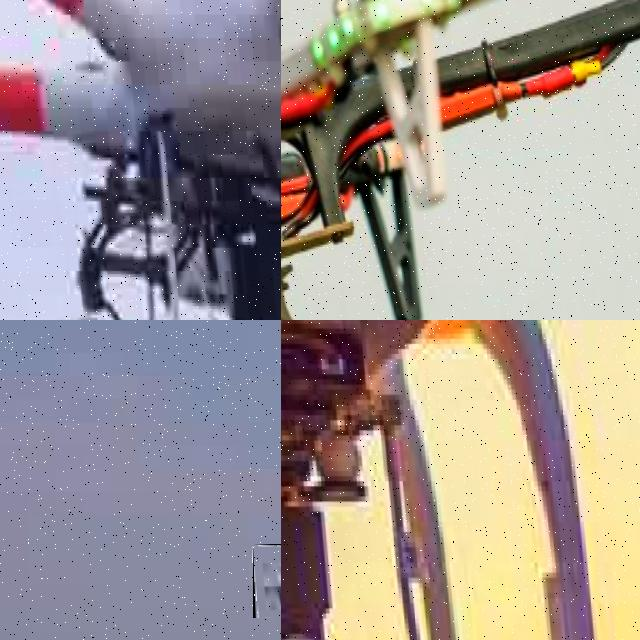drone: (281, 0, 640, 320), (281, 320, 640, 640), (0, 0, 281, 320), (253, 544, 281, 618)
